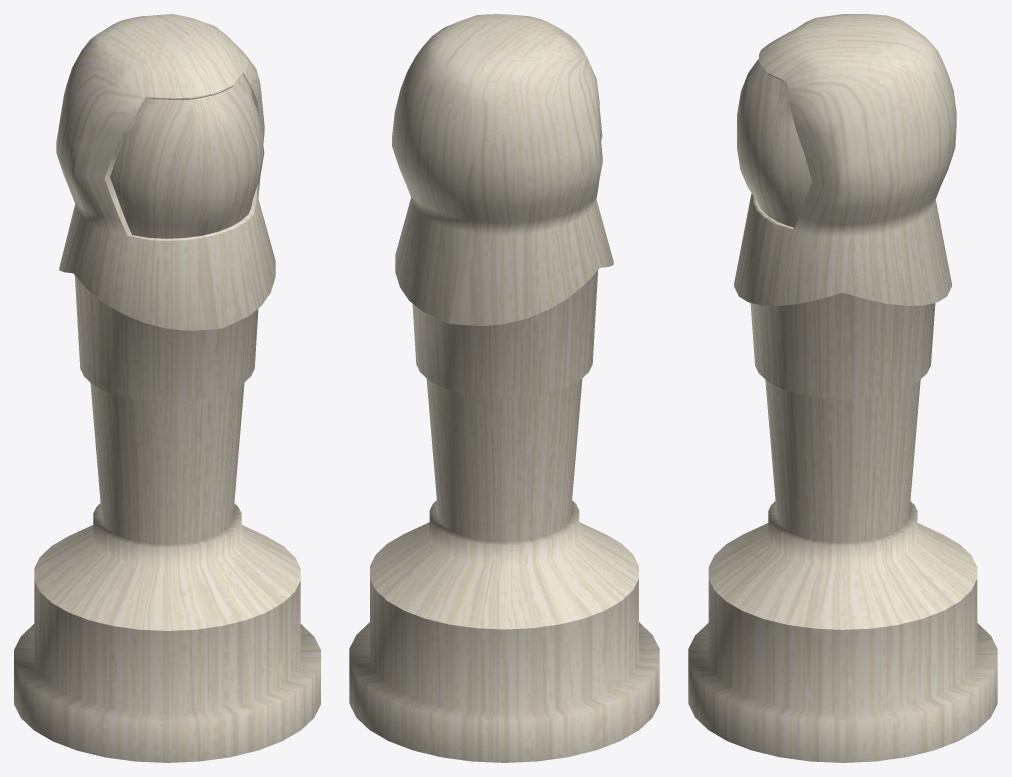
File: Pawn,white.fbx
The picture shows the model from 3 angles, left to right: view 1: azimuth 30°, elevation 25°; view 2: azimuth 150°, elevation 25°; view 3: azimuth 270°, elevation 25°; orthographic projection.
Parts seen in each view (by area): view 1: pCylinder3; view 2: pCylinder3; view 3: pCylinder3.
Part boxes in pixels (x1=…): pCylinder3: x1=14, y1=14, x2=320, y2=762; pCylinder3: x1=349, y1=14, x2=659, y2=762; pCylinder3: x1=688, y1=14, x2=997, y2=762.
Bounding box in the file's own units: 30.32 × 71.75 × 30.16.
1 material, 1 textured.
